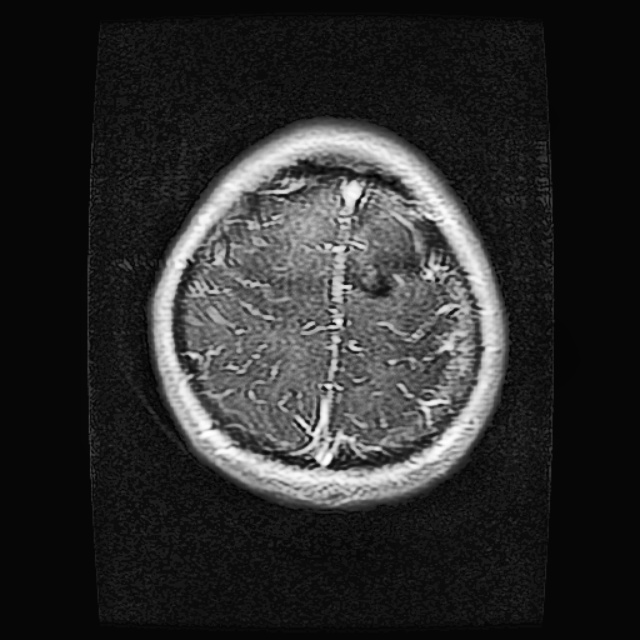Glioma: (347, 199, 430, 293)
